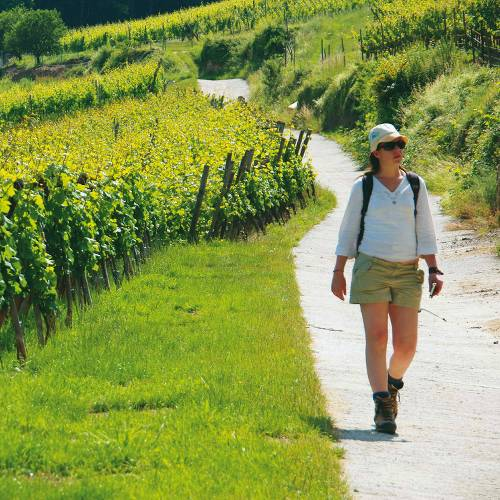feet: (358, 367, 413, 440)
